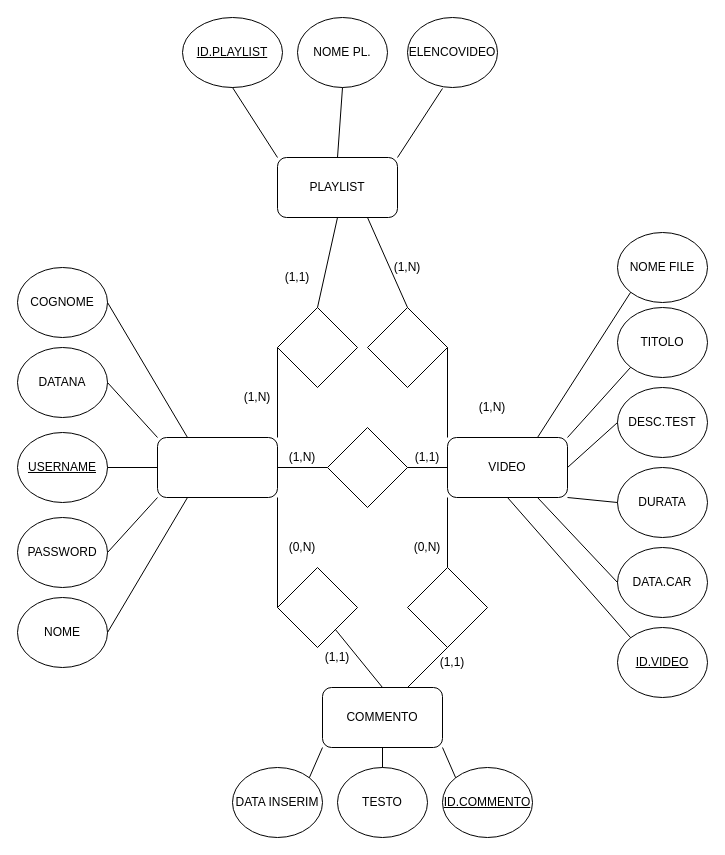
This 725x855 diagram has some shape labels left out. The centre of each missing label's shape, as x and y in pixels:
"CARICAM." belongs at [367,467].
"SCELTA" belongs at [407,347].
"SCRIVE" belongs at [317,607].
"SEL.VID" belongs at [317,347].
"SEZIONE" belongs at [447,607].
"UTENTE" belongs at [217,467].
